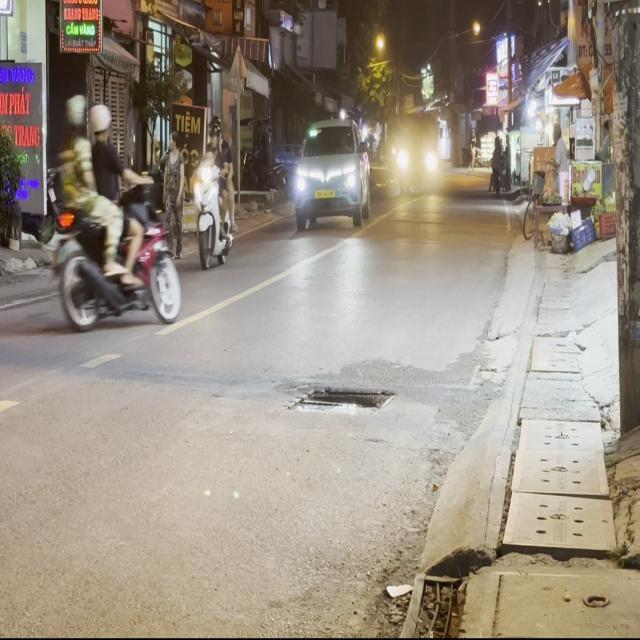helmet: (64, 92, 88, 138), (88, 101, 111, 142), (208, 114, 221, 142)
licenseplate: (42, 95, 184, 335), (192, 112, 236, 270)
